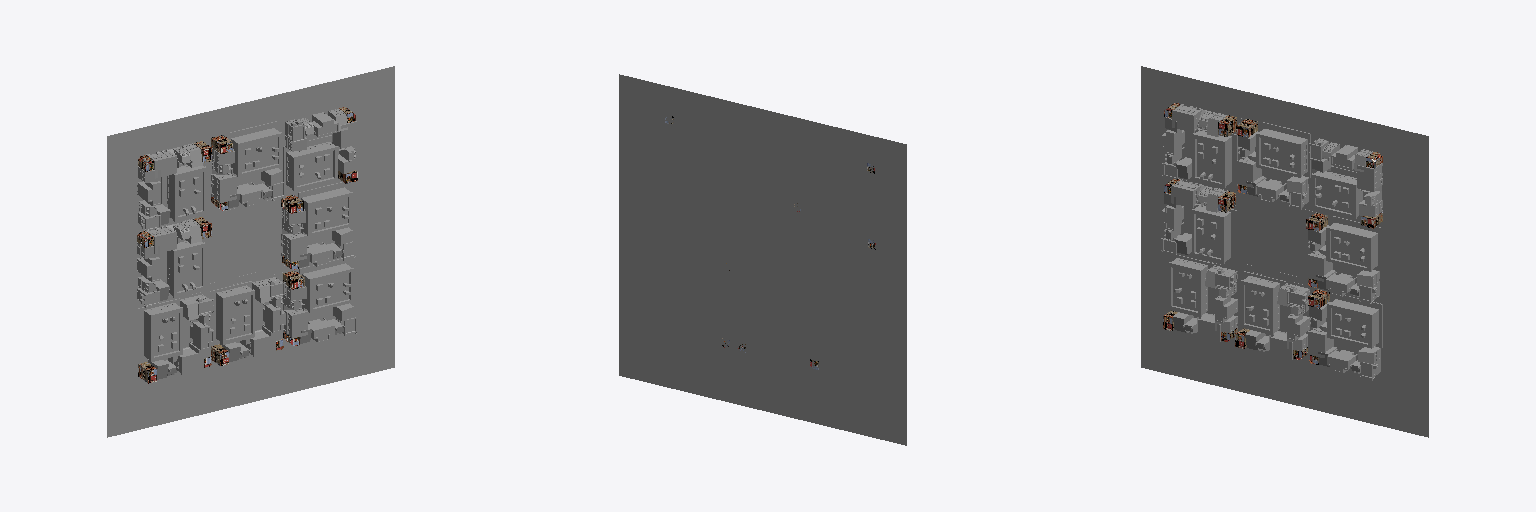
3 renders of one model, left to right at view 1: azimuth 30°, elevation 25°; view 2: azimuth 150°, elevation 25°; view 3: azimuth 330°, elevation 25°, orthographic.
Parts seen in each view (by area): view 1: Plane, (null).122_(null).150, (null).112_(null).140, (null).145_(null).196, (null).040_(null).098, (null).109_(null).137, (null).133_(null).161, (null).057_(null).115, (null).093, (null).044_(null).102, (null).105_(null).133, (null).129_(null).157 (+4 smaller); view 2: Plane; view 3: Plane, (null).040_(null).098, (null).133_(null).161, (null).109_(null).137, (null).112_(null).140, (null).122_(null).150, (null).057_(null).115, (null).093, (null).145_(null).196, (null).089, (null).053_(null).111, (null).141_(null).192 (+3 smaller).
Part boxes in pixels (bbox=[...]): Plane: bbox=[107, 66, 394, 437]; (null).122_(null).150: bbox=[138, 298, 182, 361]; (null).112_(null).140: bbox=[210, 281, 254, 344]; (null).145_(null).196: bbox=[283, 135, 337, 190]; (null).040_(null).098: bbox=[228, 121, 282, 176]; (null).109_(null).137: bbox=[298, 182, 352, 236]; (null).133_(null).161: bbox=[299, 258, 353, 312]; (null).057_(null).115: bbox=[161, 163, 206, 221]; (null).093: bbox=[161, 239, 205, 297]; (null).044_(null).102: bbox=[211, 166, 236, 202]; (null).105_(null).133: bbox=[281, 227, 306, 262]; (null).129_(null).157: bbox=[283, 302, 307, 338]; Plane: bbox=[619, 74, 906, 445]; Plane: bbox=[1141, 66, 1428, 437]; (null).040_(null).098: bbox=[1256, 122, 1310, 177]; (null).133_(null).161: bbox=[1327, 295, 1382, 348]; (null).109_(null).137: bbox=[1326, 216, 1380, 271]; (null).112_(null).140: bbox=[1241, 271, 1285, 334]; (null).122_(null).150: bbox=[1169, 254, 1213, 316]; (null).057_(null).115: bbox=[1192, 129, 1237, 188]; (null).093: bbox=[1192, 204, 1236, 263]; (null).145_(null).196: bbox=[1311, 166, 1365, 218]; (null).089: bbox=[1171, 179, 1206, 207]; (null).053_(null).111: bbox=[1172, 104, 1206, 132]; (null).141_(null).192: bbox=[1357, 163, 1382, 192].
Bounding box in the file's own units: 438 × 438 × 28.58.
Materials: 11 (2 with a texture image).